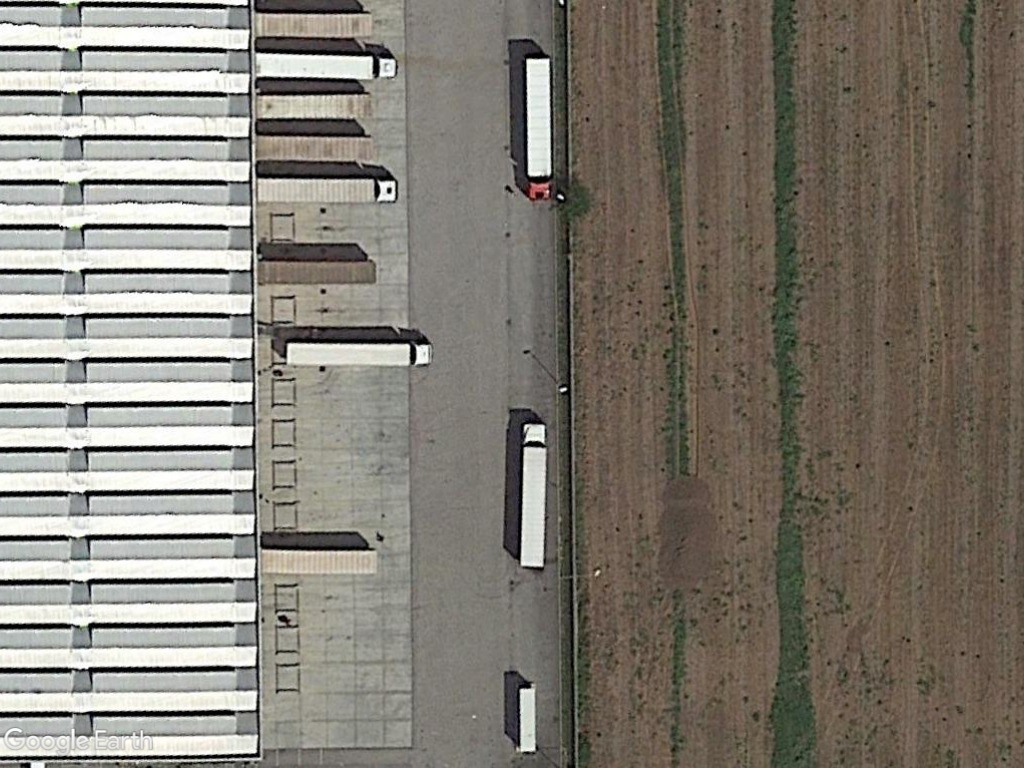longvehicle: (519, 49, 557, 202), (254, 170, 403, 208), (280, 336, 436, 372), (253, 47, 403, 84), (515, 419, 551, 572), (256, 255, 381, 291), (254, 132, 381, 166), (258, 545, 382, 579), (254, 9, 380, 41), (254, 91, 378, 120), (513, 678, 542, 758)
